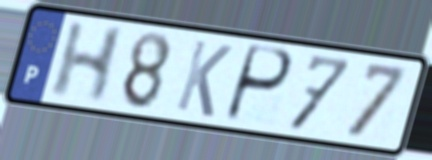7: (286, 51, 354, 134), (343, 61, 410, 142)
8: (119, 30, 173, 112)
H: (45, 20, 129, 106)
K: (172, 37, 236, 121)
P: (221, 42, 297, 127)
